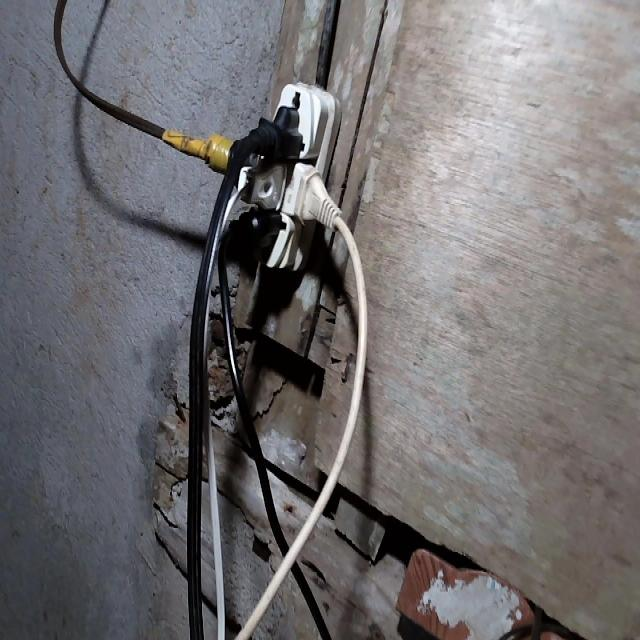-: (203, 79, 341, 272)
